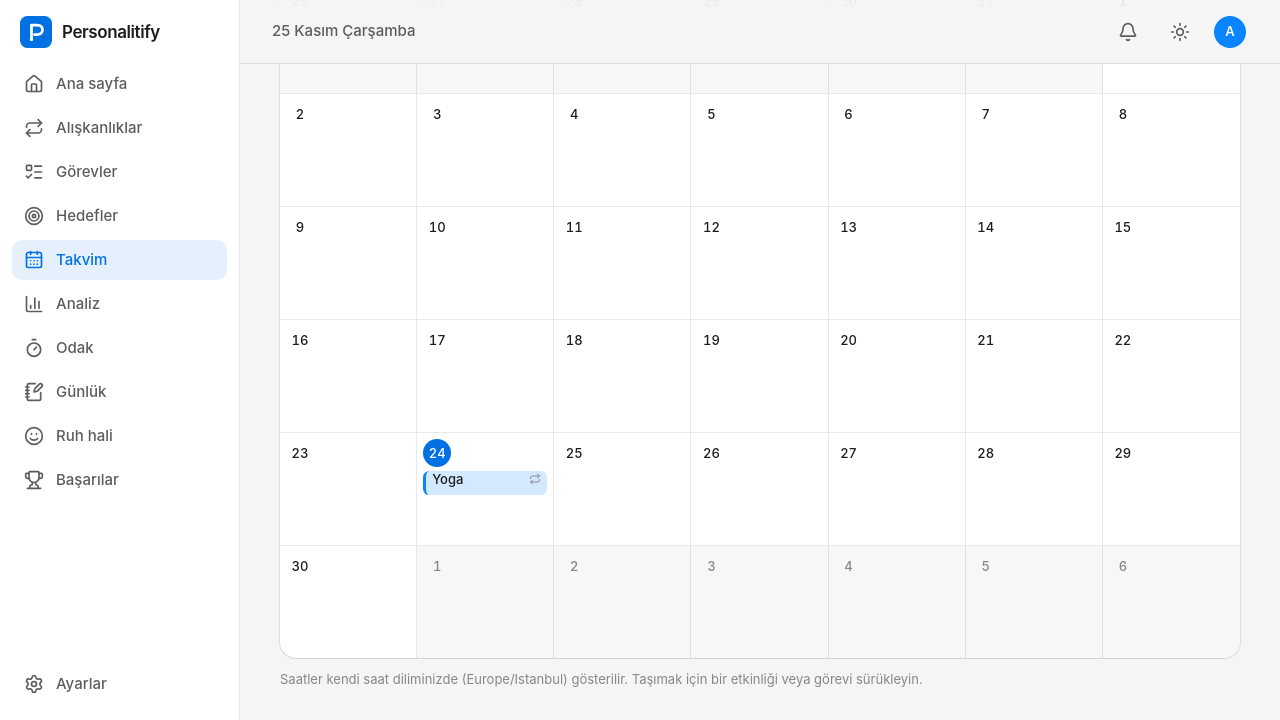
Scenario: calendar page › opens a repeating event for editing and deletes a single occurrence
(page scrolled)
Click the button with aria-label "Yoga, Etkinlik".
click(485, 483)  # box [423, 471, 547, 495]
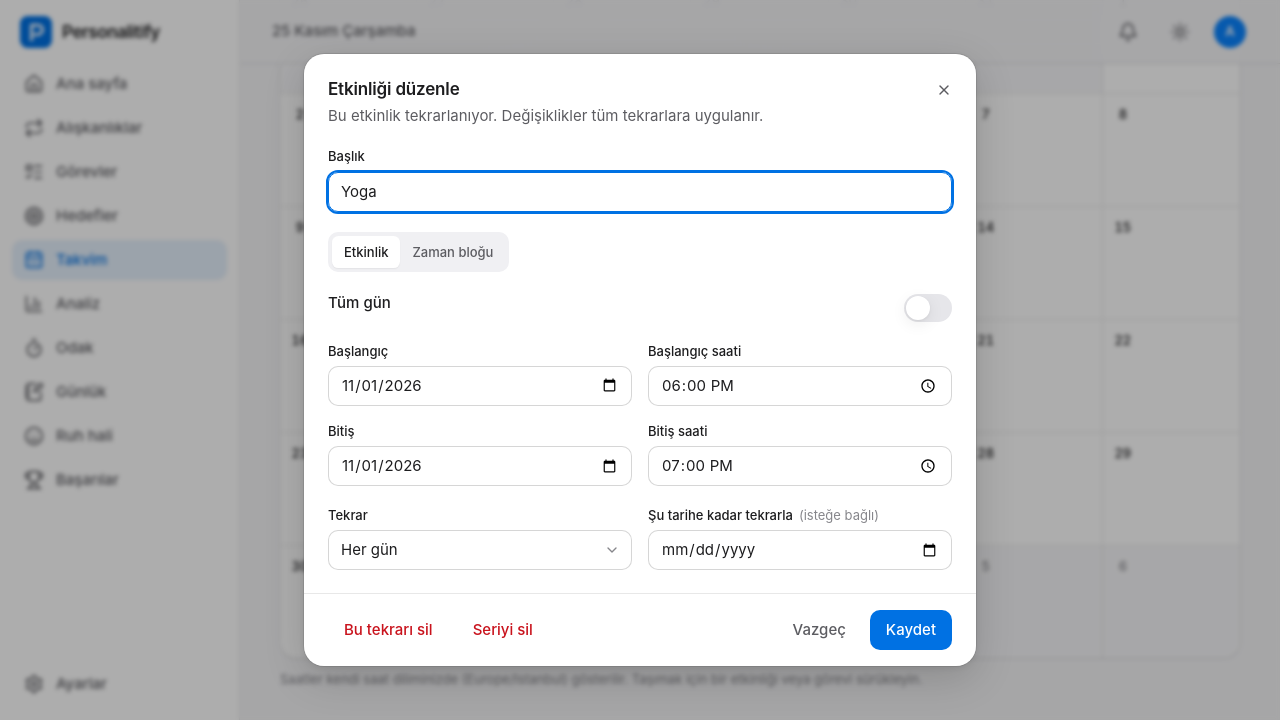
Now the text "Değişiklikler tüm tekrarlara uygulanır" is shown, box [328, 106, 763, 125]
Now the field labelled "Başlık" holds "Yoga", box [328, 172, 952, 212]
Click the button "Bu tekrarı sil".
click(388, 630)  # box [328, 610, 449, 650]
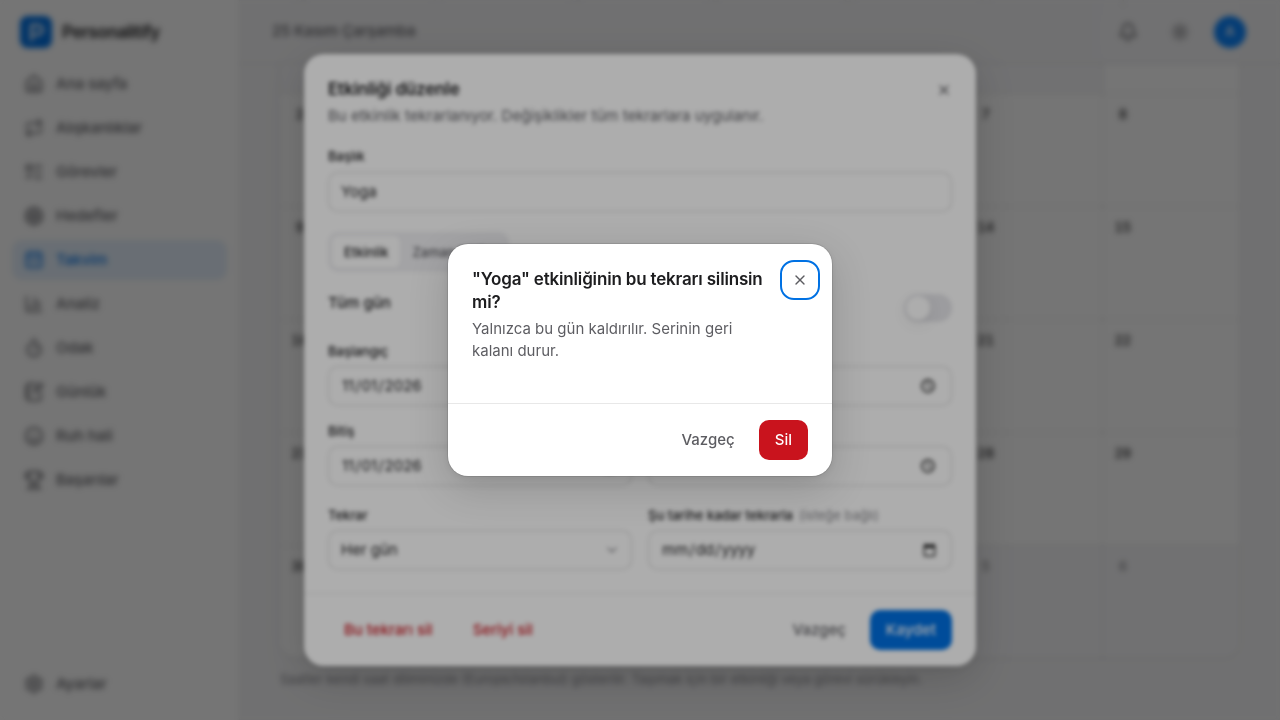
Click the button "Sil".
click(783, 440)  # box [759, 420, 808, 460]
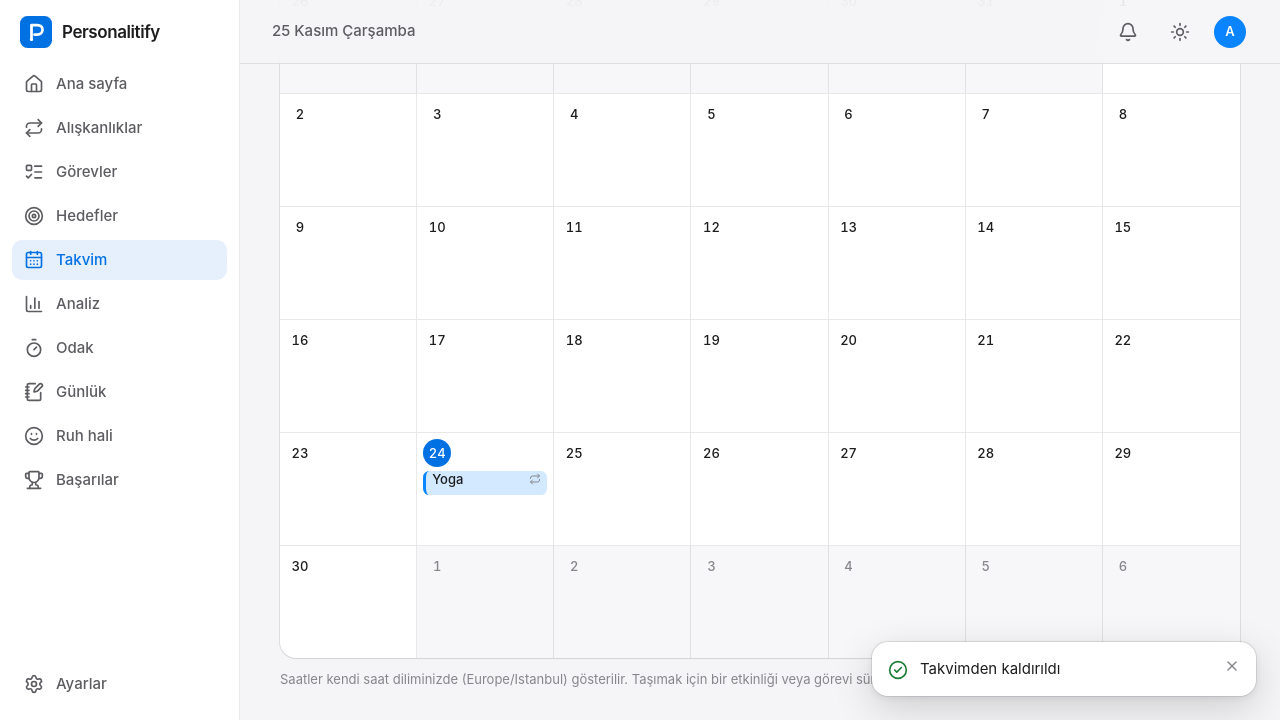
Now the text "Takvimden kaldırıldı" is shown, box [920, 658, 1060, 678]
